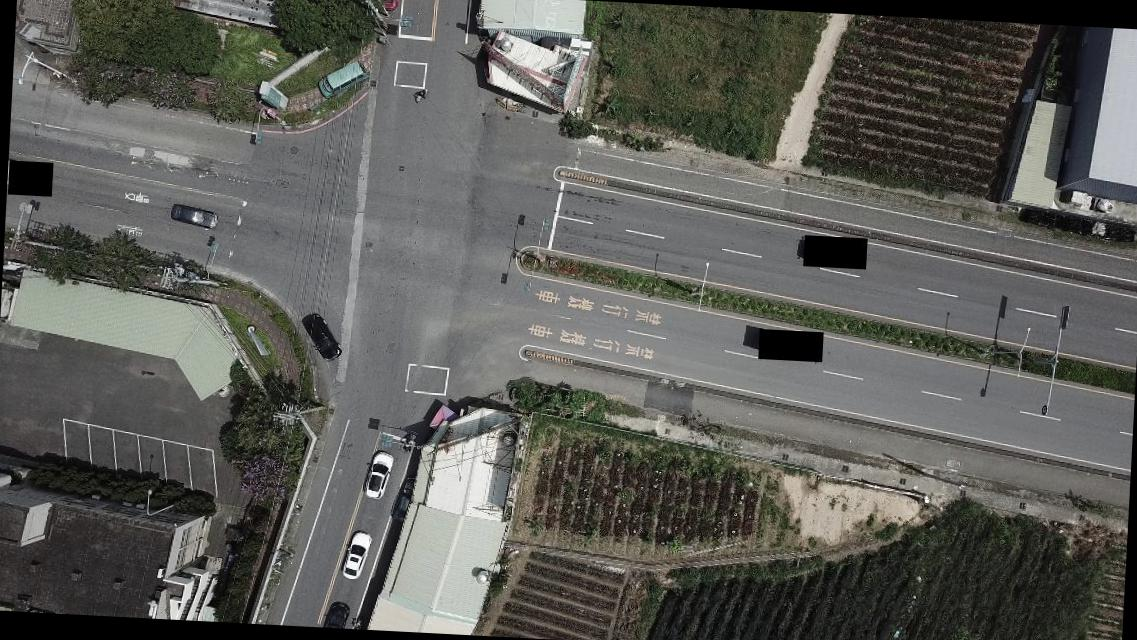vehicle: (298, 312, 343, 362), (315, 59, 369, 100), (339, 528, 372, 582), (362, 448, 392, 502), (168, 202, 219, 230), (393, 475, 416, 520), (323, 600, 348, 628), (377, 0, 402, 17)
